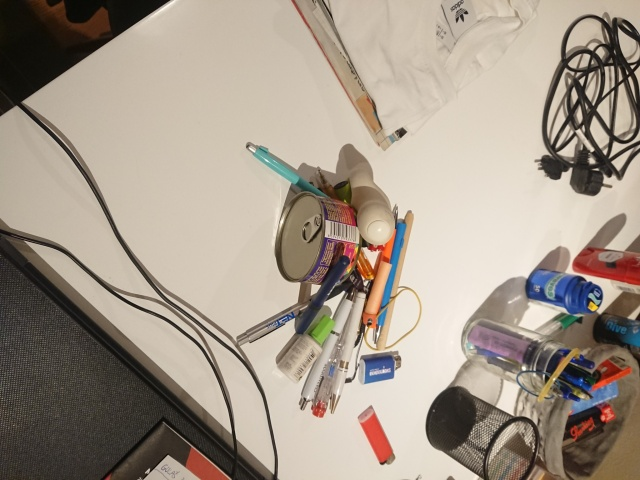Giana Tuna Salad Mexico 185g: (272, 189, 363, 288)
